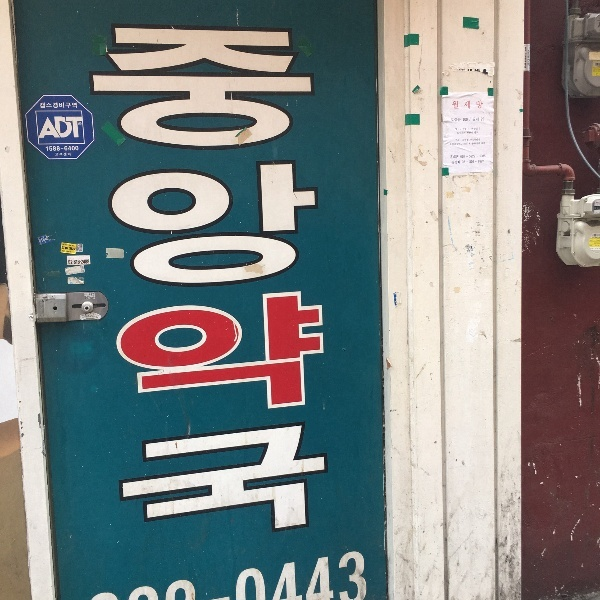text: (97, 22, 112, 560), (113, 22, 128, 560), (129, 22, 144, 560), (145, 22, 160, 560), (161, 22, 176, 560), (177, 22, 192, 560), (193, 22, 208, 560), (209, 22, 224, 560), (225, 22, 240, 560), (241, 22, 256, 560), (257, 22, 272, 560), (273, 22, 288, 560), (289, 22, 304, 560), (305, 22, 320, 560), (321, 22, 334, 560), (84, 22, 96, 560), (129, 547, 144, 600), (145, 547, 160, 600), (161, 547, 176, 600), (177, 547, 192, 600), (193, 547, 208, 600), (209, 547, 224, 600), (225, 547, 240, 600), (241, 547, 256, 600), (257, 547, 272, 600), (273, 547, 288, 600), (289, 547, 304, 600), (305, 547, 320, 600), (321, 547, 336, 600), (337, 547, 352, 600), (353, 547, 368, 600), (49, 116, 64, 138), (65, 116, 80, 138), (65, 243, 80, 256), (40, 298, 48, 317), (65, 266, 80, 276), (465, 100, 480, 110), (37, 235, 48, 247), (452, 100, 464, 110), (49, 102, 64, 109), (81, 313, 96, 319), (49, 146, 64, 152), (84, 293, 96, 300), (65, 146, 79, 152), (65, 102, 77, 109), (68, 259, 80, 265), (450, 154, 464, 159), (525, 47, 528, 69), (81, 116, 84, 138), (481, 117, 496, 121), (465, 127, 480, 131), (465, 131, 479, 135), (40, 102, 48, 109), (469, 117, 480, 122), (81, 259, 90, 265), (451, 118, 464, 122), (452, 161, 464, 165), (481, 142, 496, 145), (469, 160, 480, 164), (450, 143, 464, 146), (81, 266, 85, 276), (472, 117, 480, 122), (470, 138, 480, 142), (61, 243, 64, 256), (476, 100, 480, 109), (55, 152, 64, 156), (469, 155, 480, 158), (456, 127, 464, 131), (457, 131, 464, 135), (466, 161, 480, 163), (481, 100, 484, 109), (81, 243, 83, 256), (456, 139, 464, 142), (472, 142, 480, 145), (65, 152, 71, 156), (529, 47, 530, 69), (47, 116, 48, 138), (481, 154, 486, 158), (465, 142, 471, 145), (466, 156, 480, 157), (97, 313, 99, 319), (465, 118, 468, 122), (465, 139, 469, 142), (46, 146, 48, 152), (475, 161, 480, 163), (461, 155, 464, 158), (481, 160, 484, 163), (462, 160, 464, 164), (462, 139, 464, 142), (478, 160, 480, 163), (463, 118, 464, 122), (476, 156, 480, 157), (79, 123, 80, 126)
